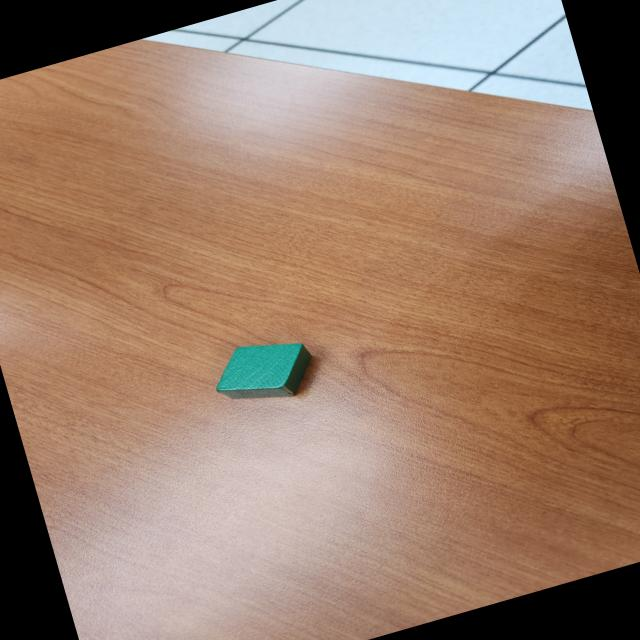green: (205, 326, 322, 416)
